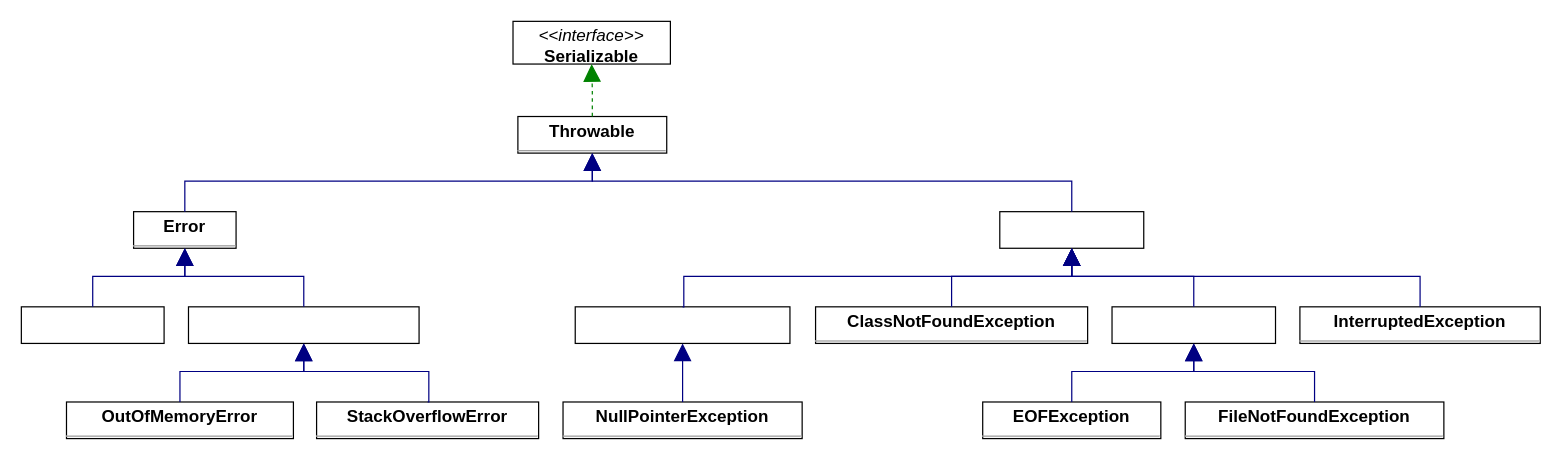
Image size: 1562x460. Some labels were removed from this diagram. Each missing label, with the centre of its shape:
"AWTError" belongs at (x=92, y=324).
"Exception" belongs at (x=1071, y=229).
"IOException" belongs at (x=1193, y=324).
"RuntimeException" belongs at (x=682, y=324).
"VirtualMachineError" belongs at (x=303, y=324).
